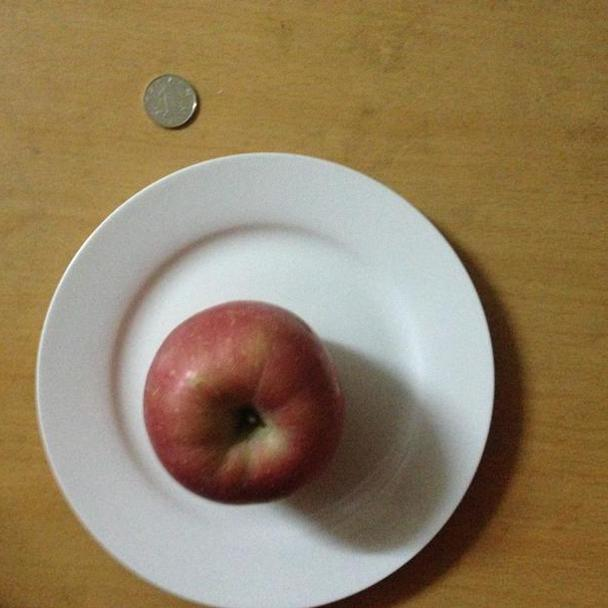apple: (142, 299, 345, 505)
